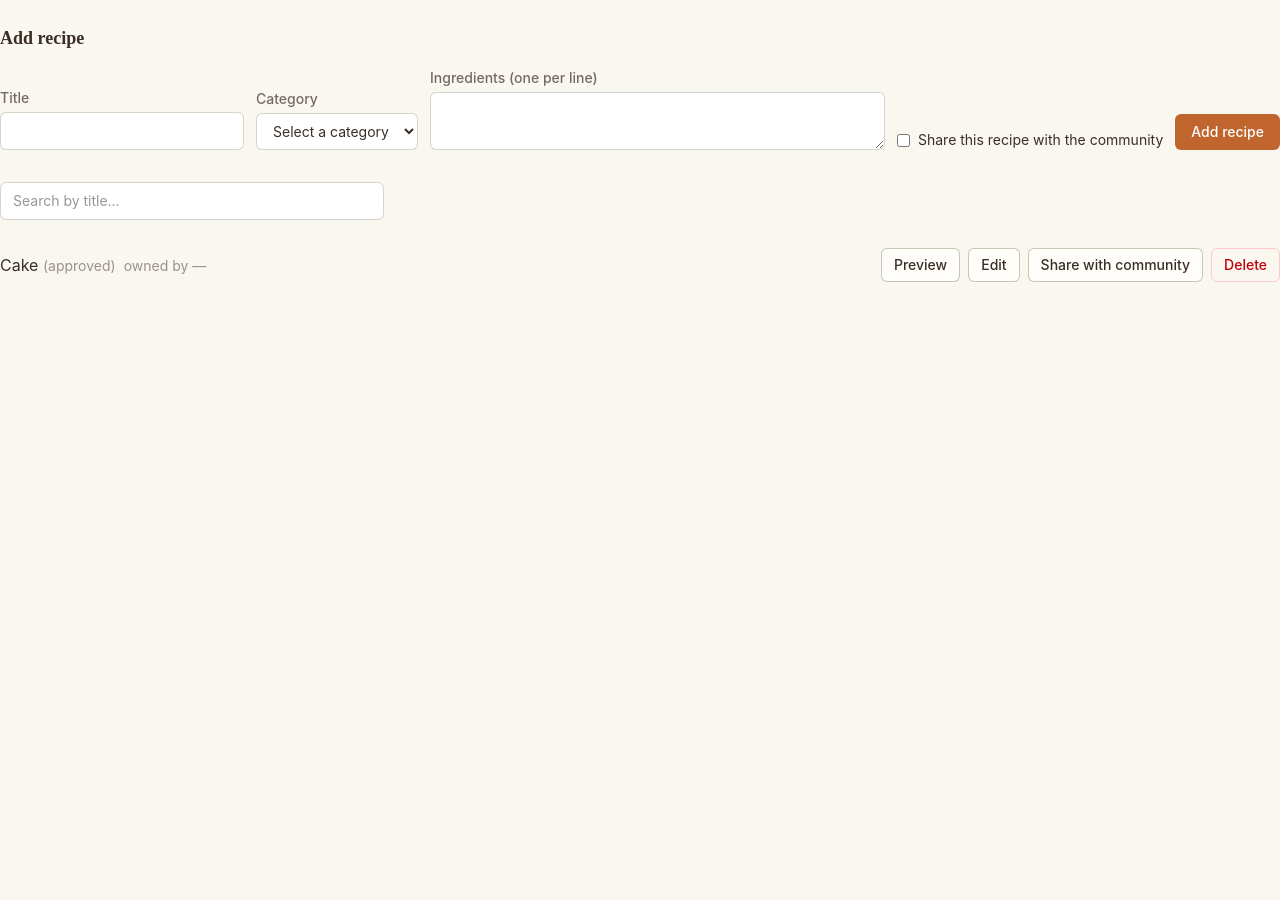
Scenario: RecipeManager › does not delete a recipe when the confirm dialog is dismissed
Expected: the text "Cake (approved)owned by —" is shown, left=0, top=253, right=206, bottom=277
Click the button "Delete".
click(1246, 265)  # box left=1211, top=248, right=1279, bottom=282
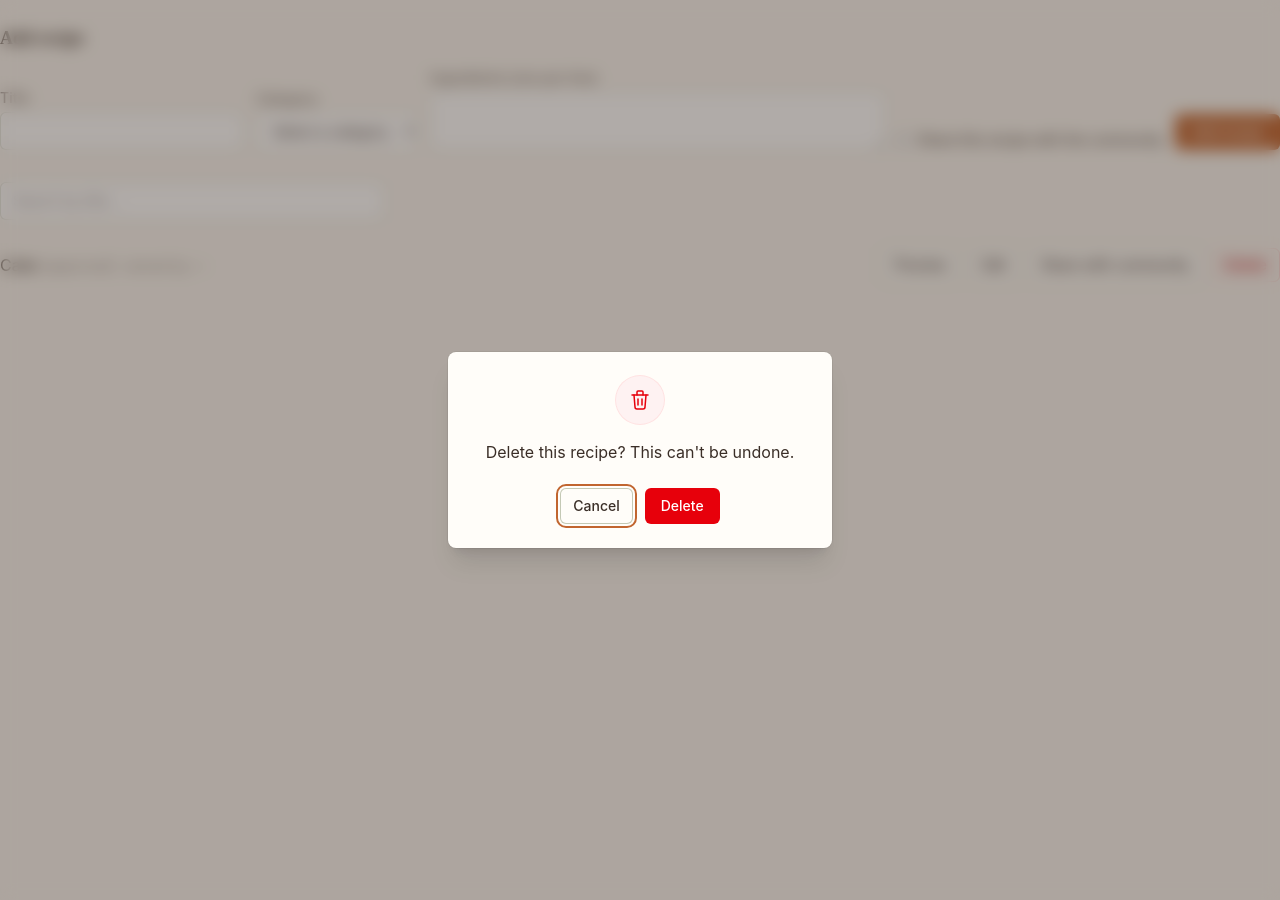
Click the button "Cancel".
click(597, 506)  # box left=560, top=488, right=633, bottom=524
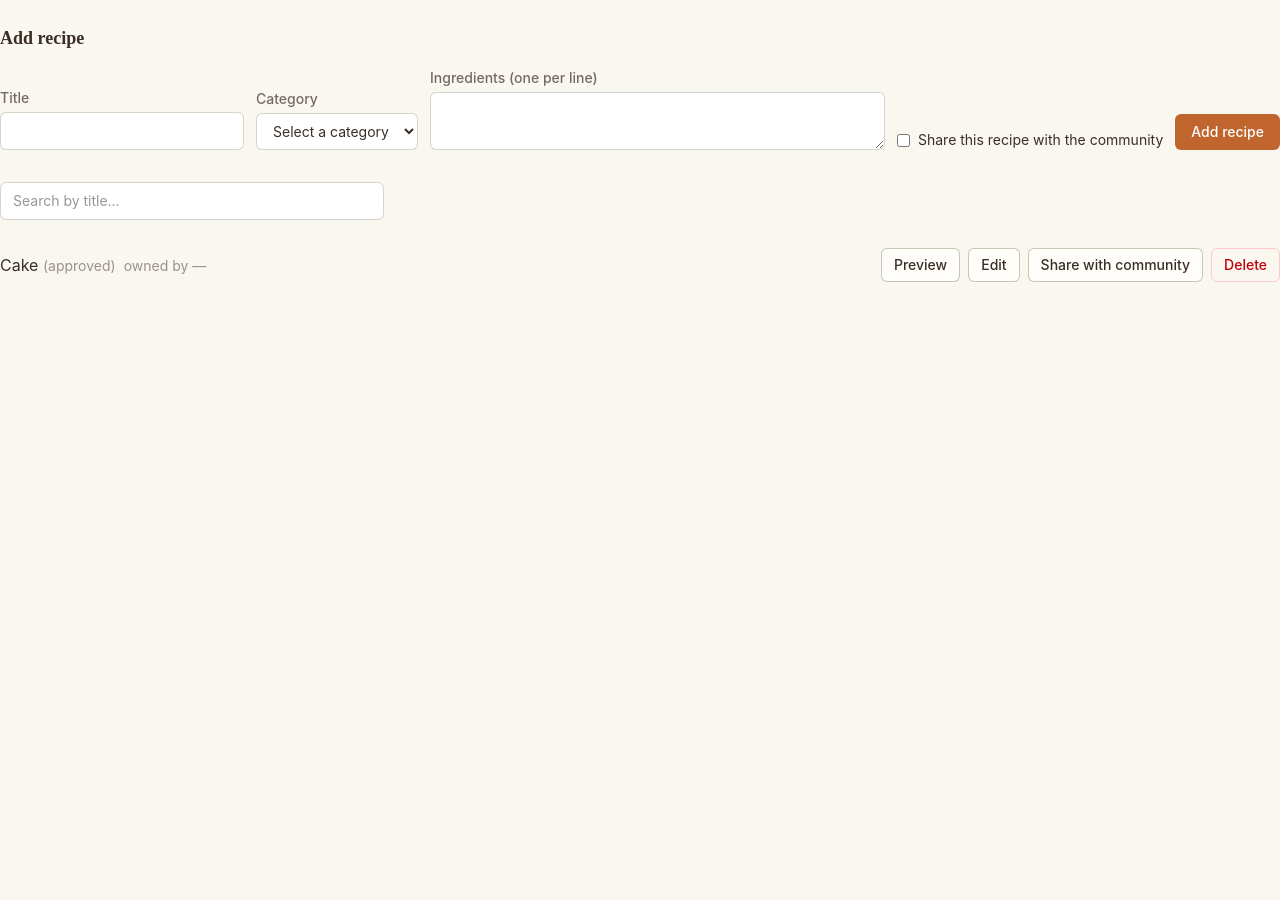
Now the dialog is gone
